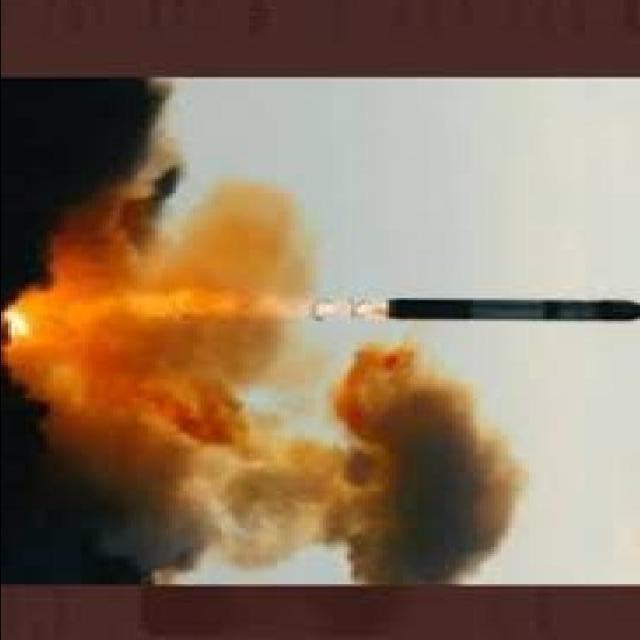missile: (381, 293, 640, 326)
